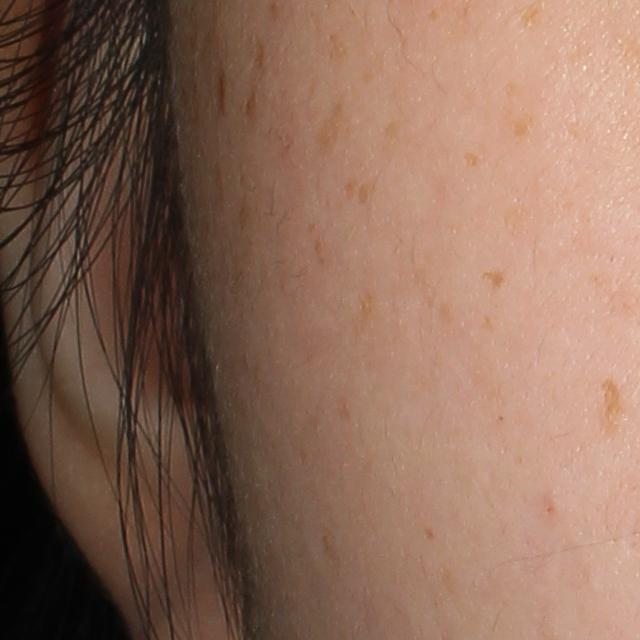melasma: (310, 96, 351, 162), (596, 375, 623, 438), (478, 268, 512, 295), (213, 67, 228, 121), (249, 39, 267, 72), (244, 88, 260, 118), (460, 151, 484, 170), (313, 234, 329, 262), (355, 180, 372, 205)
